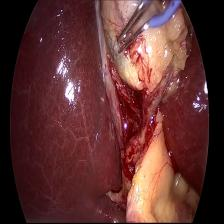Bipolar: (116, 0, 184, 58)
